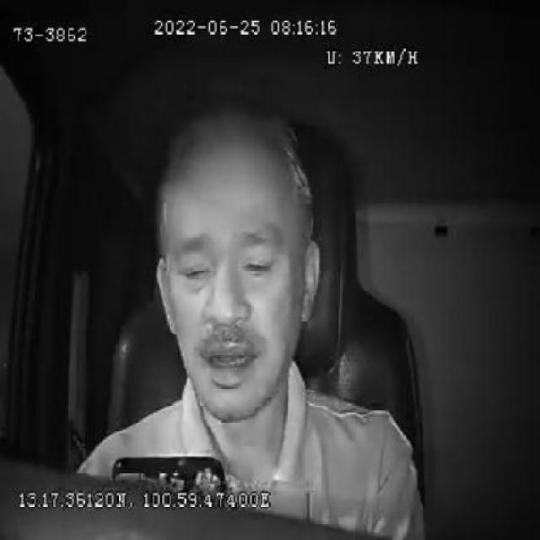phone: (111, 448, 228, 486)
